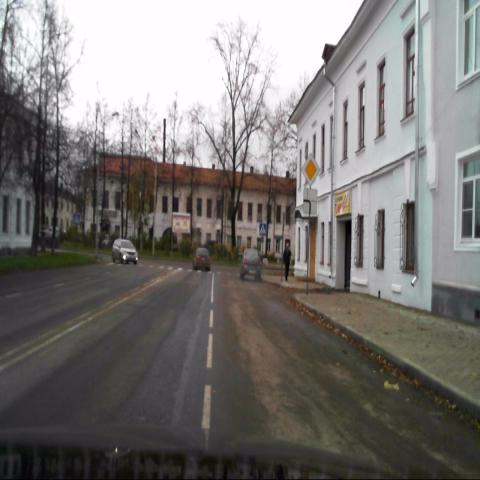2_1: (300, 153, 320, 188)
5_19_1: (259, 223, 266, 235)
8_13: (302, 190, 318, 218)
